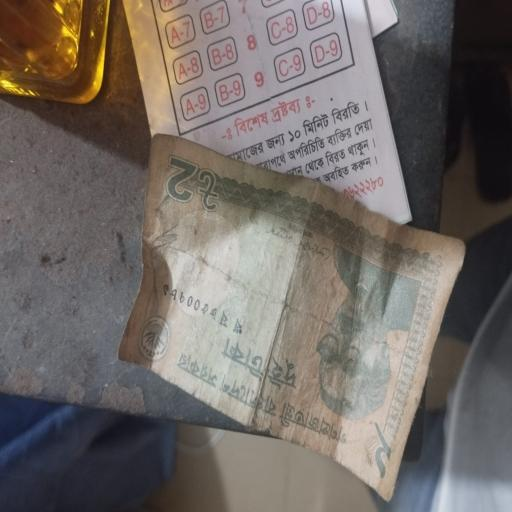2taka: (113, 131, 466, 497)
